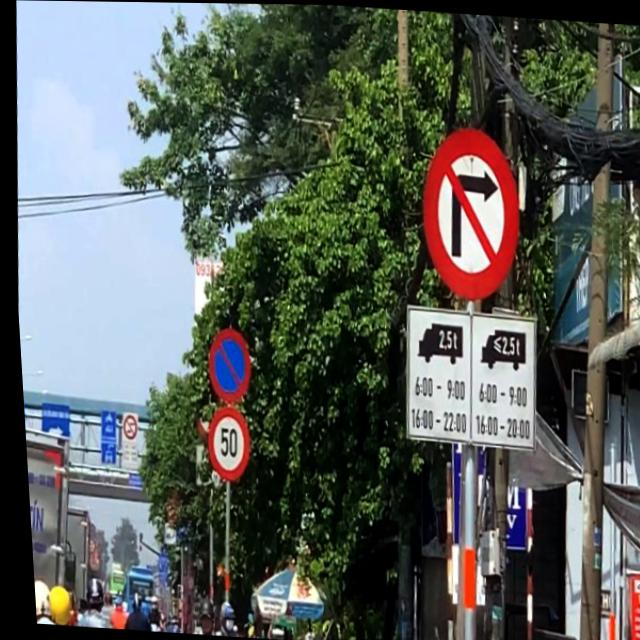Cam do xe: (199, 329, 255, 405)
Cam re phai: (410, 107, 522, 295)
Toc do toi da cho phep: (196, 401, 249, 488)
